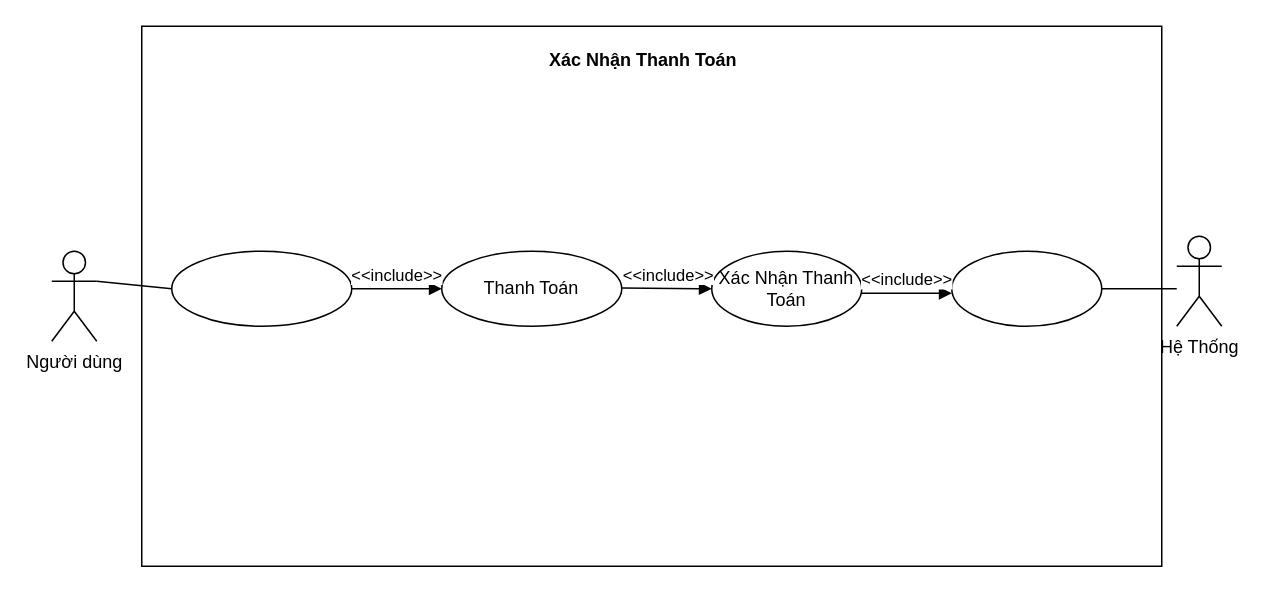
Image size: 1263x593. Some labels were removed from this diagram. Each missing label, with the centre of its shape:
Chọn Phương Thức Thanh Toán: the point at 261,288
Thông Báo Thanh Toán: the point at 1026,288
